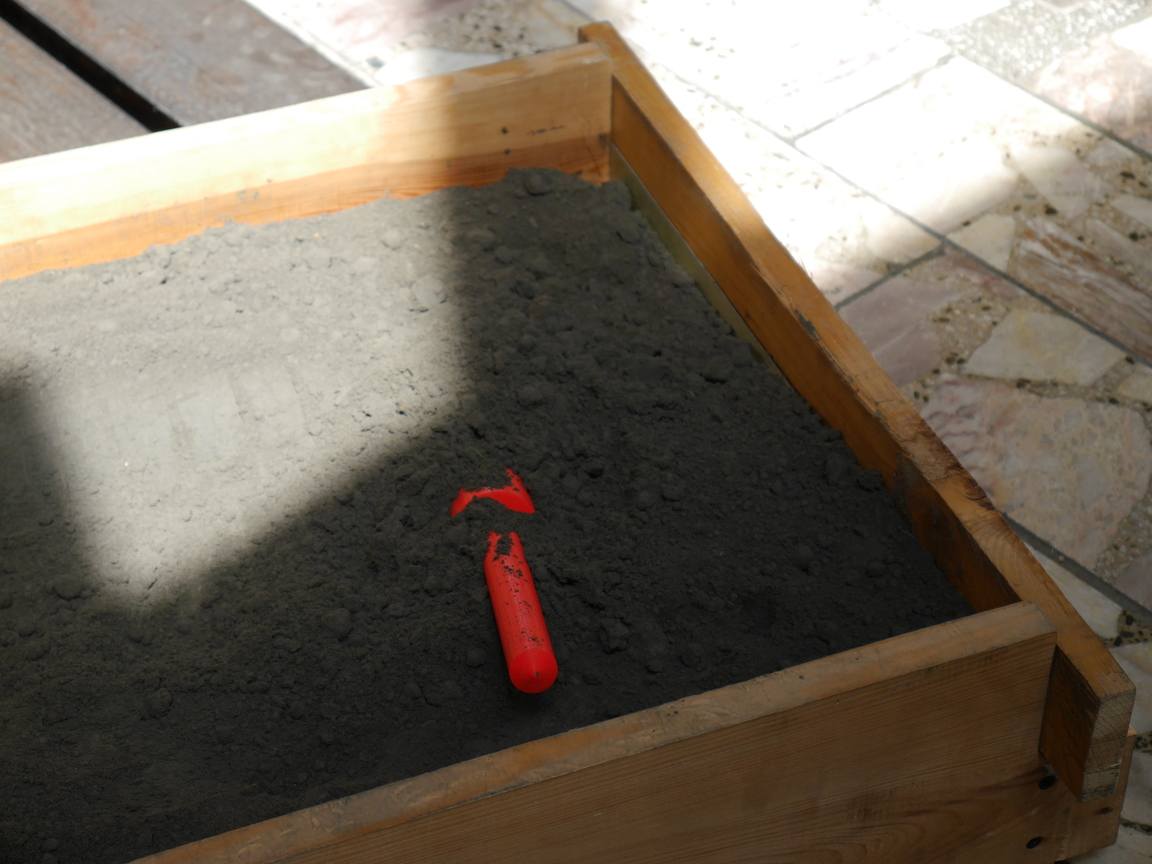cargo_g: (453, 469, 560, 697)
